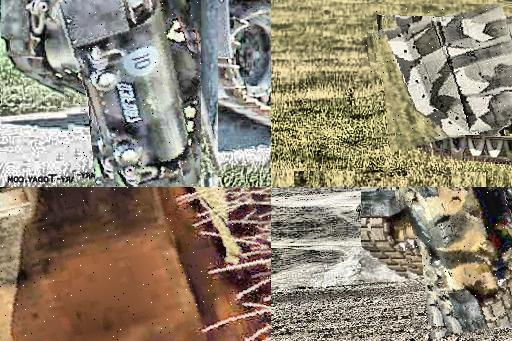tanks: (1, 188, 228, 341), (55, 1, 201, 188), (367, 5, 512, 140), (398, 188, 512, 334)
